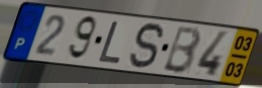2: (32, 13, 69, 58)
4: (194, 30, 231, 78)
9: (65, 15, 98, 63)
B: (160, 25, 203, 76)
L: (96, 20, 123, 66)
S: (127, 21, 167, 71)
